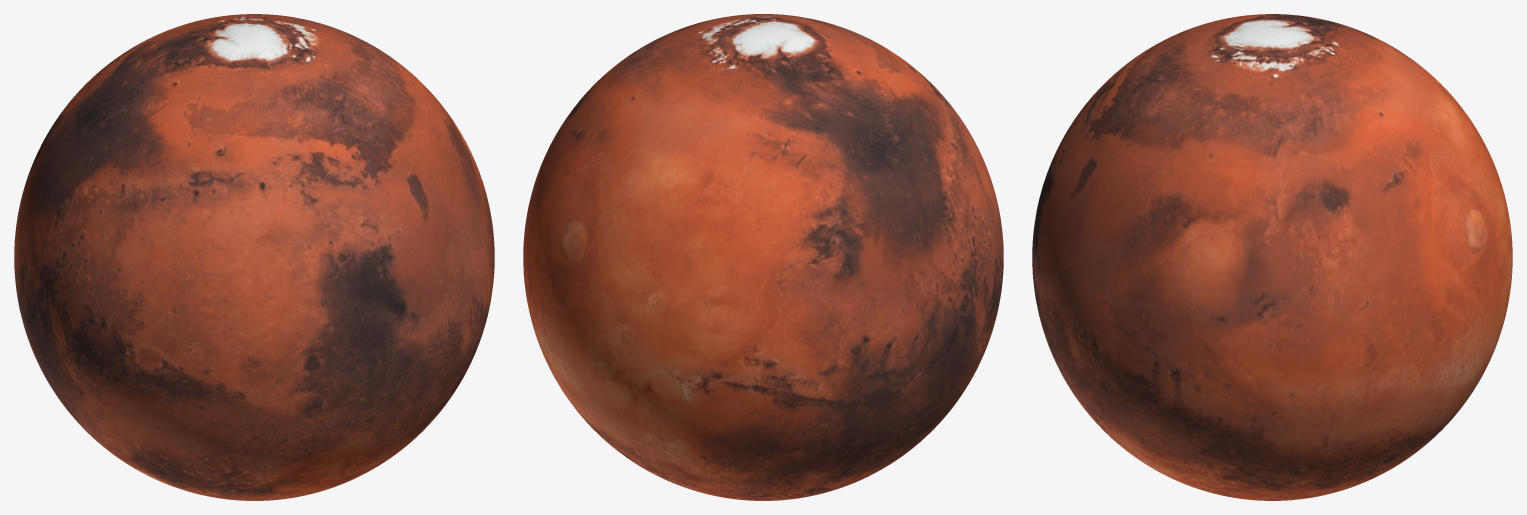
File: mars.glb
The picture shows the model from 3 angles, left to right: view 1: azimuth 30°, elevation 25°; view 2: azimuth 150°, elevation 25°; view 3: azimuth 270°, elevation 25°; orthographic projection.
Visible parts, largest first — view 1: pSphere1_lambert3_0; view 2: pSphere1_lambert3_0; view 3: pSphere1_lambert3_0.
Boxes of the visible parts, box(x1,y1,x2,y2) form: pSphere1_lambert3_0: box(14, 14, 494, 500); pSphere1_lambert3_0: box(523, 14, 1003, 500); pSphere1_lambert3_0: box(1032, 14, 1512, 500).
Size of the model in its own units: 14.38 by 14.65 by 14.38.
1 material, 1 textured.
